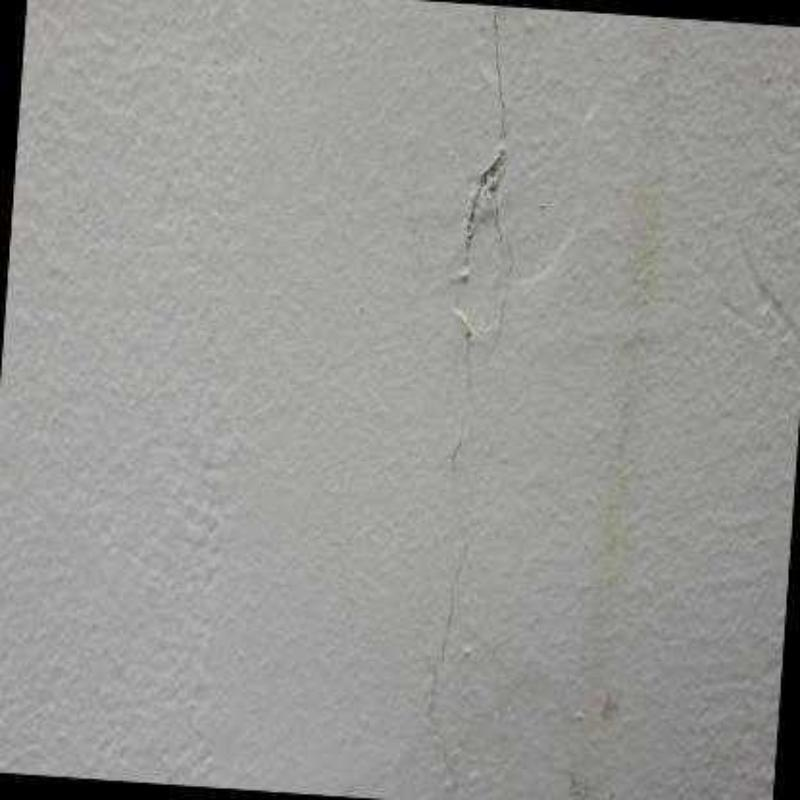pothole: (423, 411, 471, 798), (487, 11, 508, 286), (462, 171, 487, 281), (487, 292, 508, 362)
